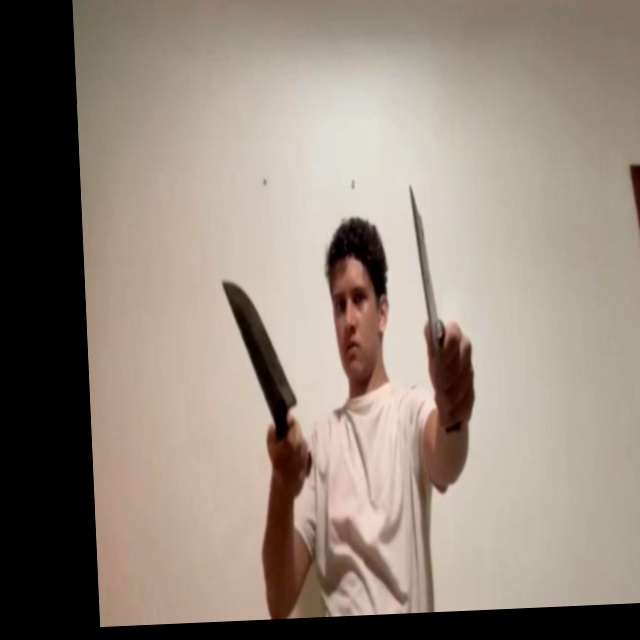Sharp-Object: (221, 278, 298, 414), (408, 181, 444, 362)
